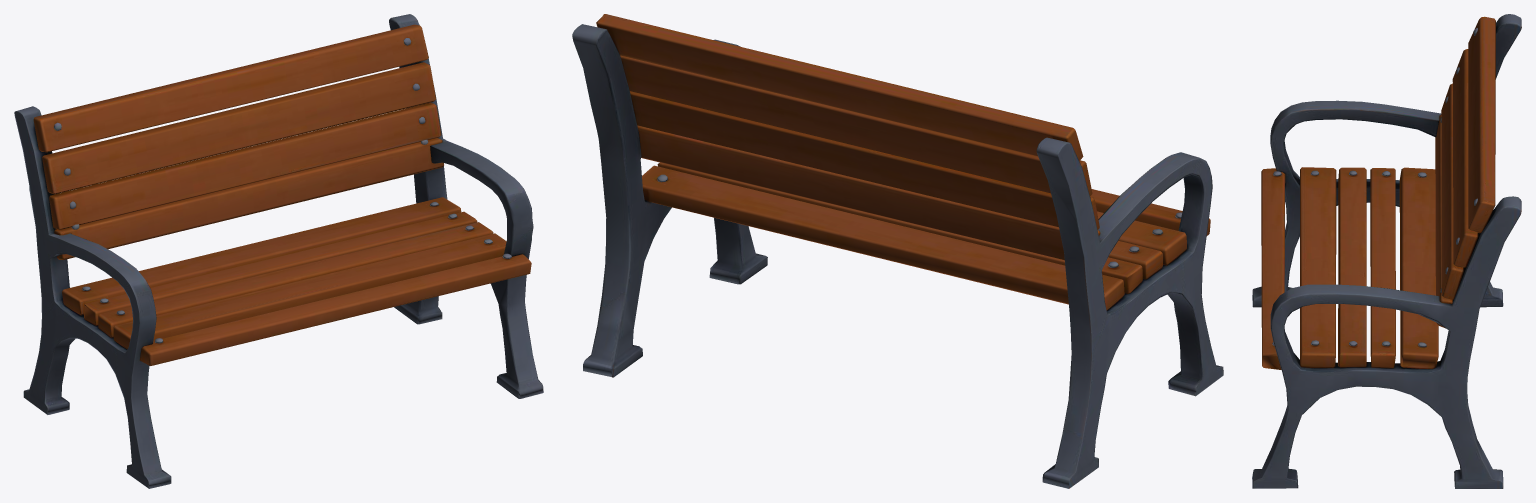
Rendered from bench.glb.
3 views of the same model, side by side, from view 1: azimuth 30°, elevation 25°; view 2: azimuth 150°, elevation 25°; view 3: azimuth 270°, elevation 25° (orthographic). The views are drawn at different scales.
Visible parts, largest first — view 1: bench; view 2: bench; view 3: bench.
Part boxes in pixels (x1,y1,x2,y2): bench: [14, 14, 543, 488]; bench: [572, 14, 1223, 488]; bench: [1252, 14, 1521, 488].
Size of the model in its own units: 1.8 by 1.24 by 1.07.
Materials: 1 (1 with a texture image).
